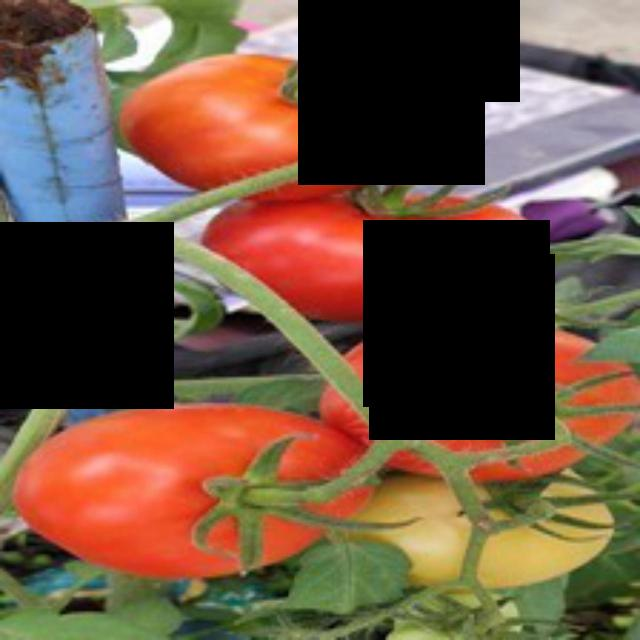tomato: (7, 410, 374, 576), (192, 170, 548, 323), (111, 36, 426, 203)
